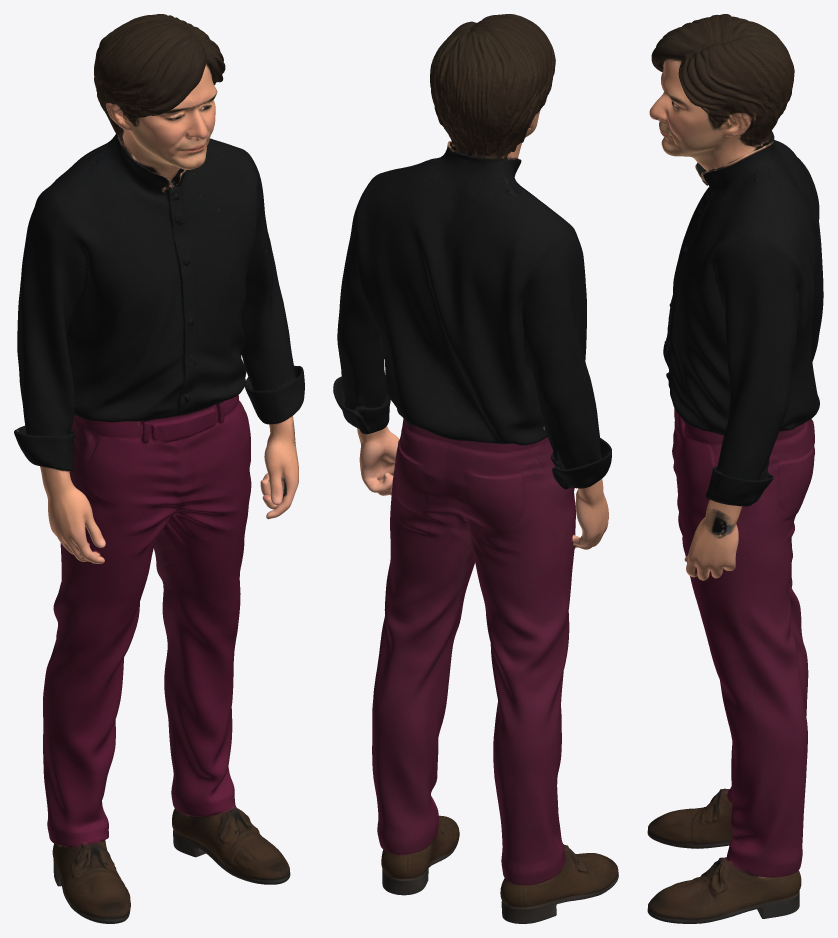
Rendered from avatar.glb.
3 views of the same model, side by side, from view 1: azimuth 30°, elevation 25°; view 2: azimuth 150°, elevation 25°; view 3: azimuth 270°, elevation 25° (orthographic).
Bounding box in the file's own units: 0.6475 × 1.9 × 0.3544.
1 material, 1 textured.
